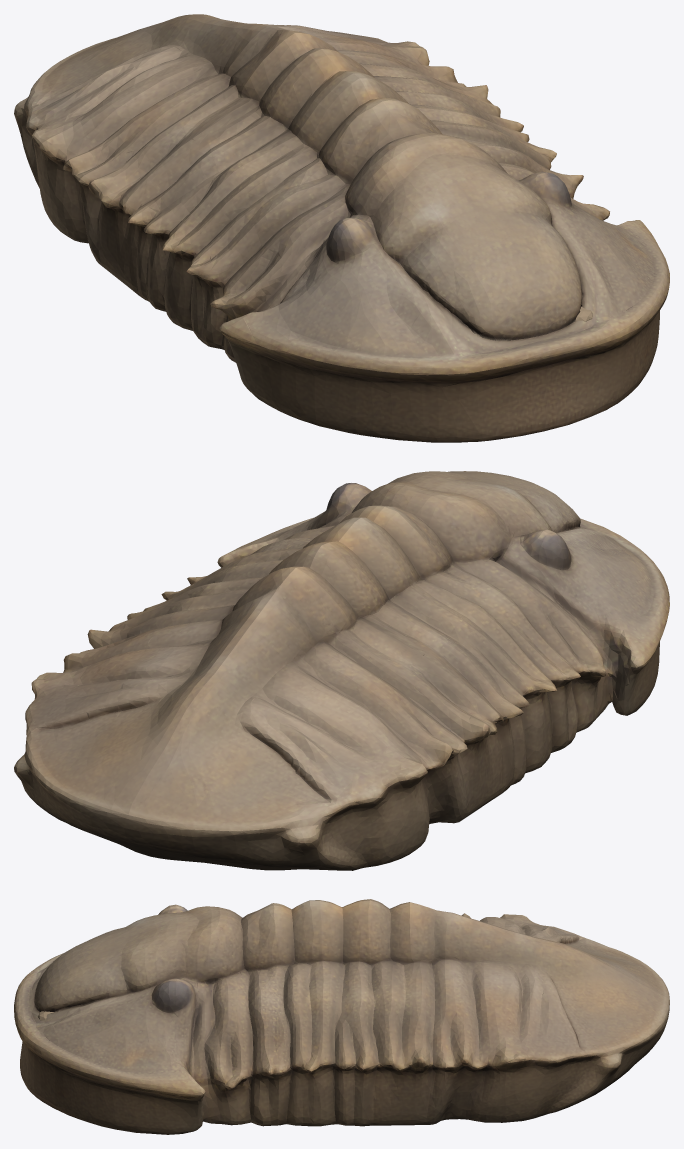
3 views of the same model, one above another, from view 1: azimuth 30°, elevation 25°; view 2: azimuth 150°, elevation 25°; view 3: azimuth 270°, elevation 25° (orthographic). The views are drawn at different scales.
Parts seen in each view (by area): view 1: world; view 2: world; view 3: world.
Boxes of the visible parts, x1=… form: world: x1=14, y1=14, x2=669, y2=442; world: x1=14, y1=471, x2=669, y2=870; world: x1=14, y1=899, x2=669, y2=1134.
Size of the model in its own units: 0.0576 by 0.0281 by 0.1.
Materials: 1 (1 with a texture image).
